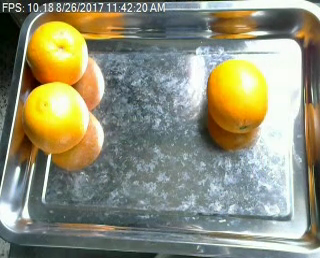Orange: (22, 80, 88, 153), (207, 57, 268, 133), (26, 19, 88, 84)
